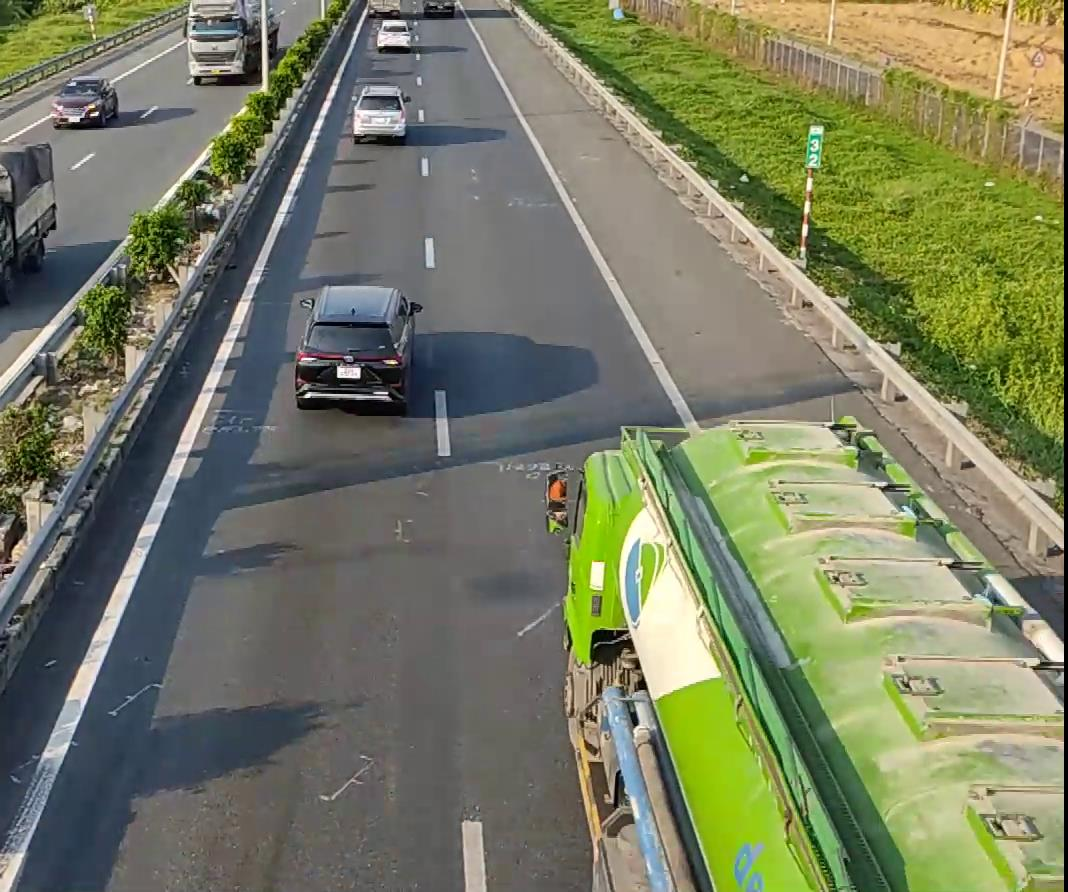car: (986, 815, 1068, 892)
container: (549, 420, 1054, 883), (183, 0, 287, 83)
truck: (0, 133, 58, 308)
